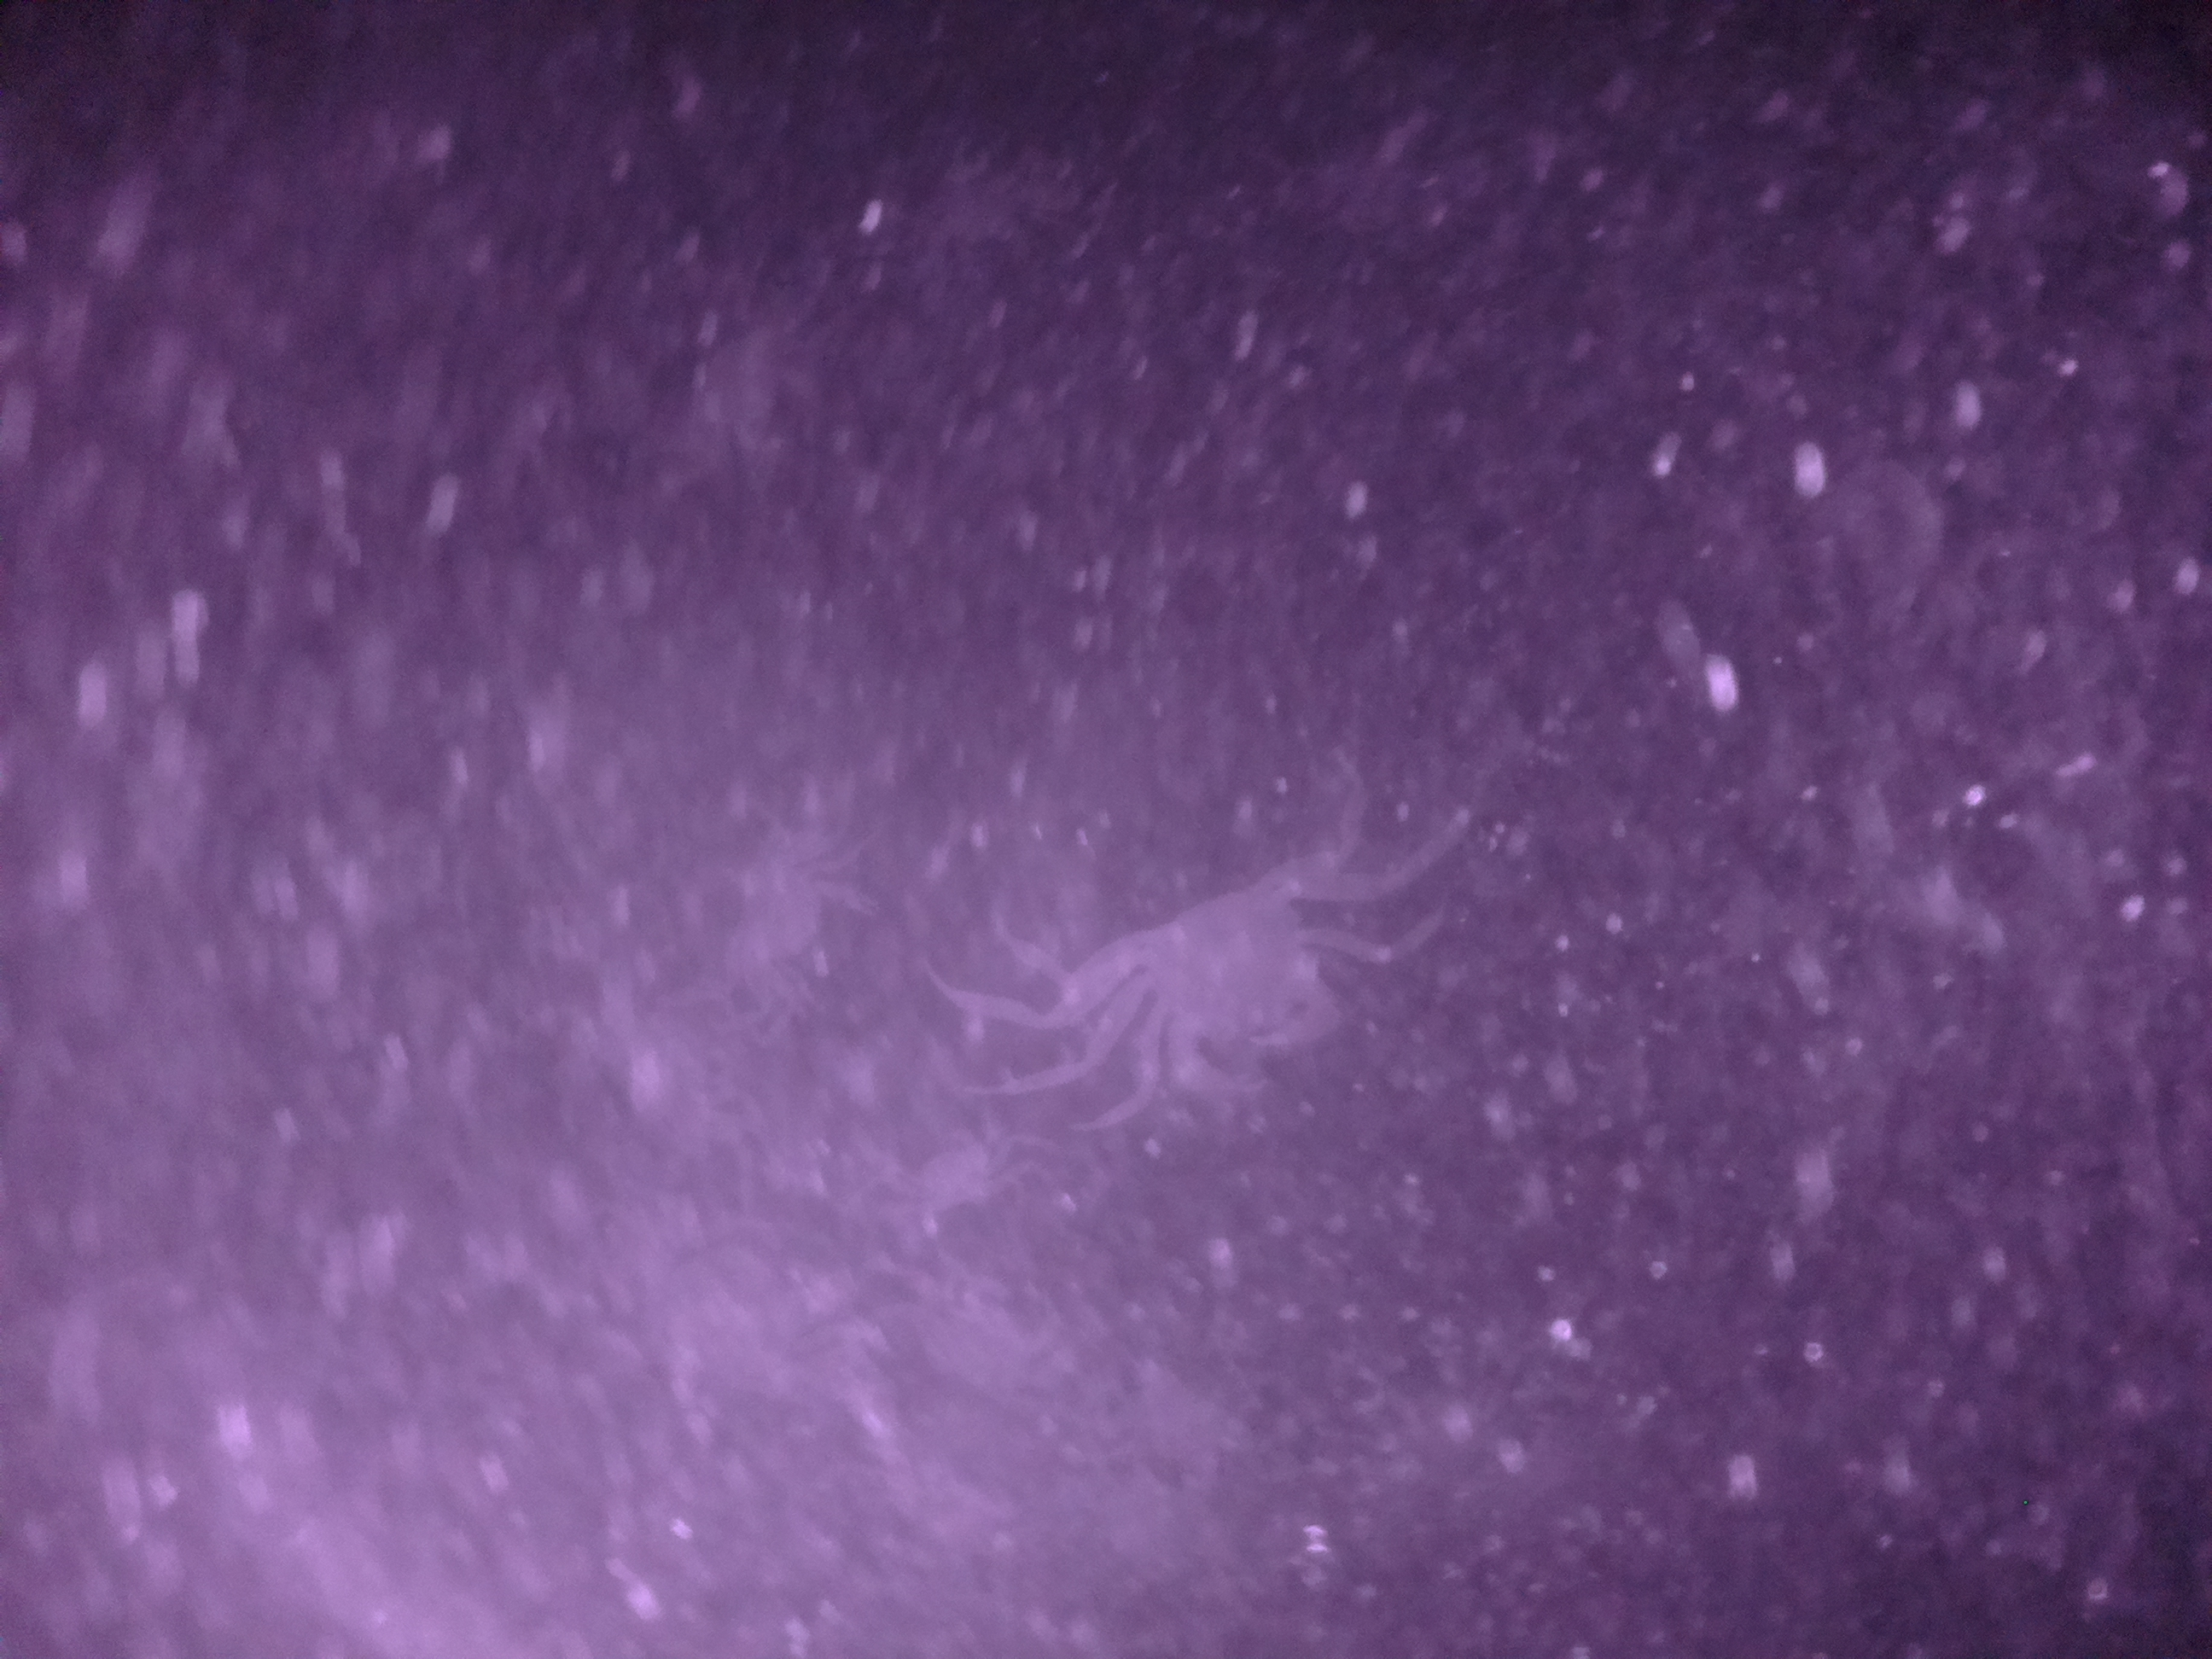Crab: (1066, 835, 1397, 1126)
